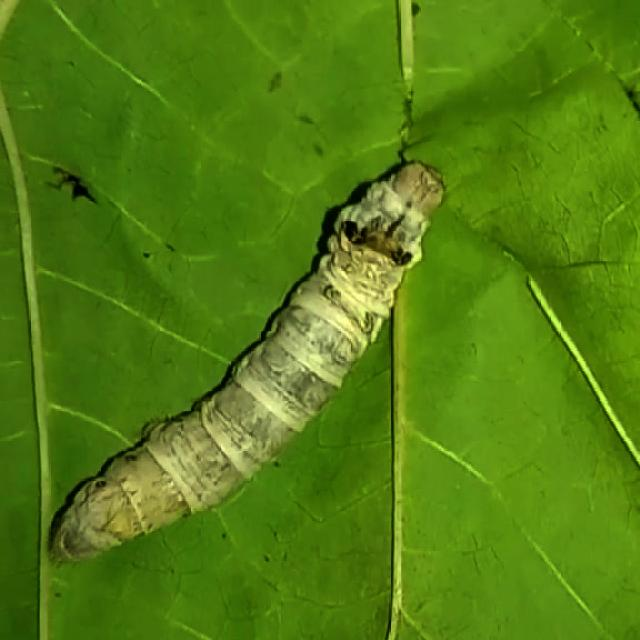Grasserie: (43, 155, 462, 568)
